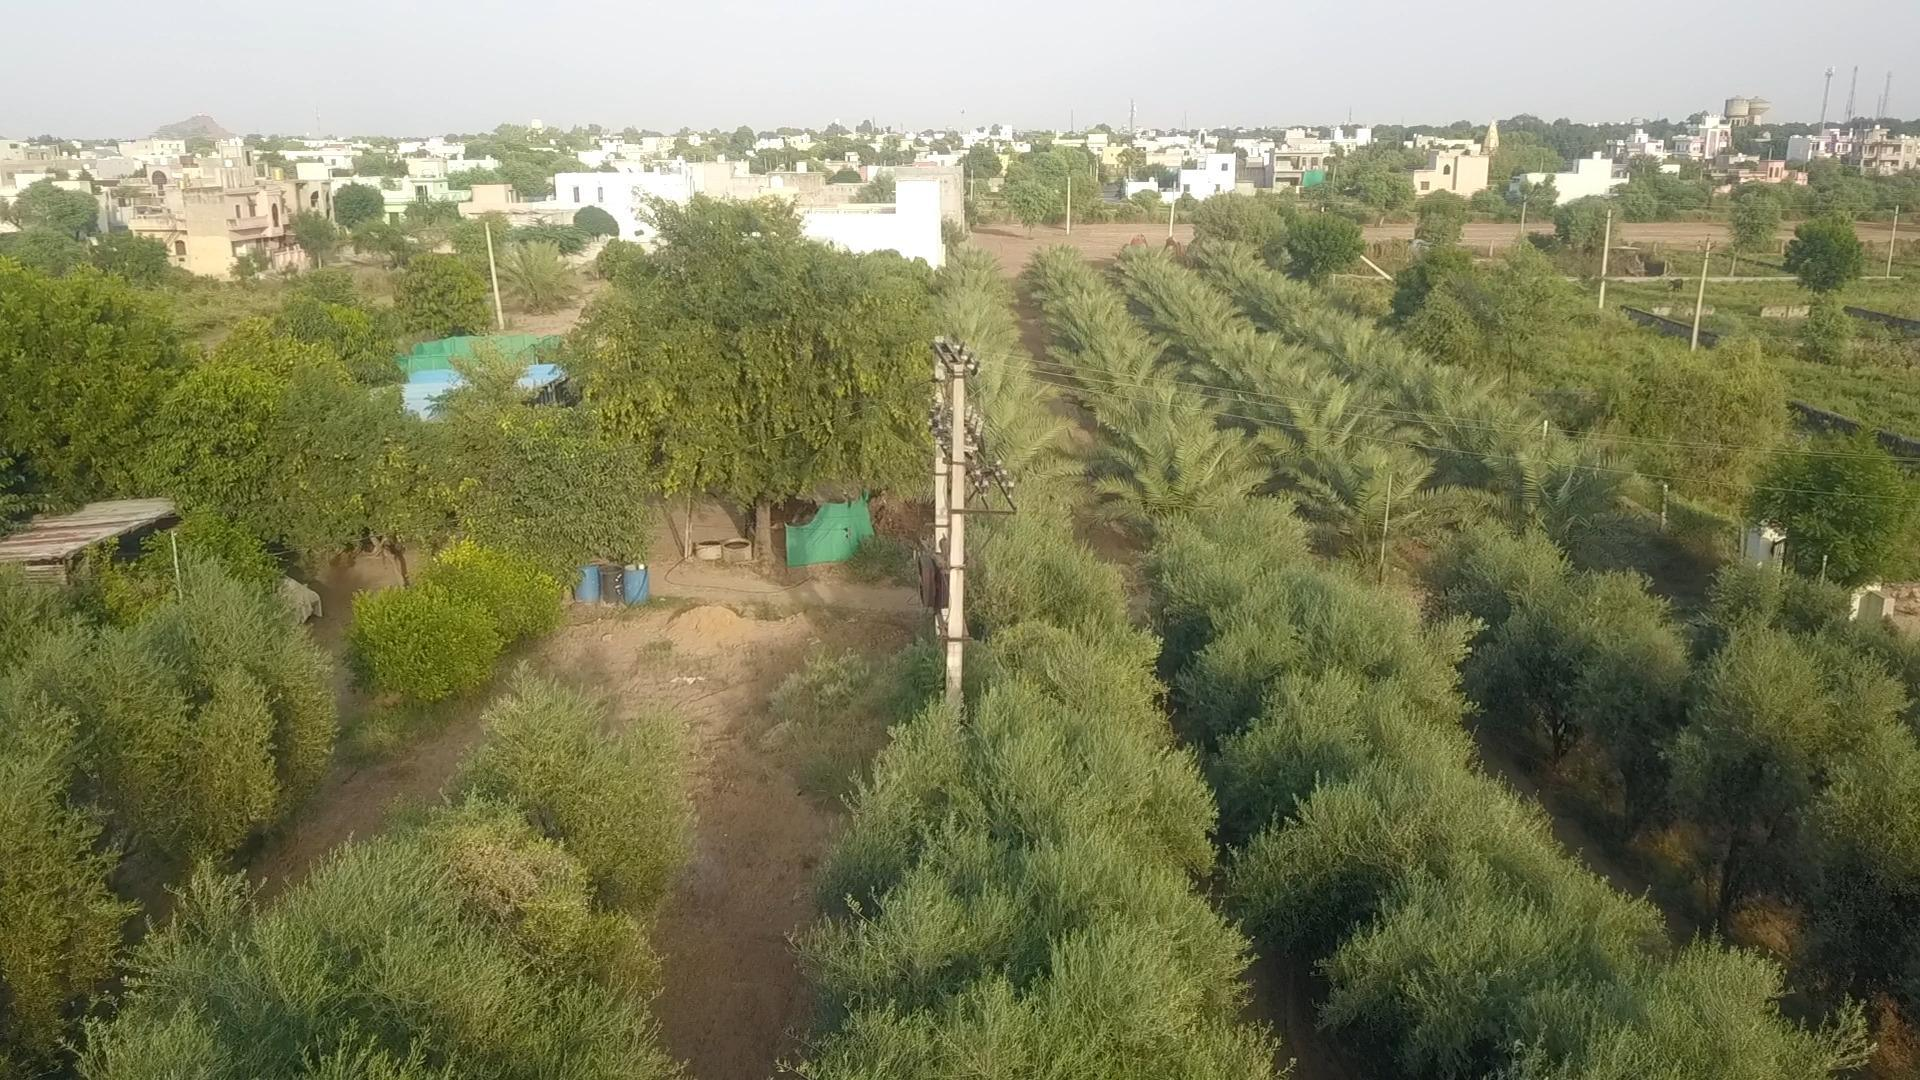canopy: (1166, 520, 1859, 1079), (800, 518, 1276, 1079), (76, 679, 691, 1079), (1427, 525, 1919, 1017), (0, 560, 339, 1076)
road: (1478, 731, 1840, 1021), (651, 674, 839, 1079), (264, 679, 516, 893), (1246, 947, 1379, 1079), (1859, 997, 1919, 1077)
